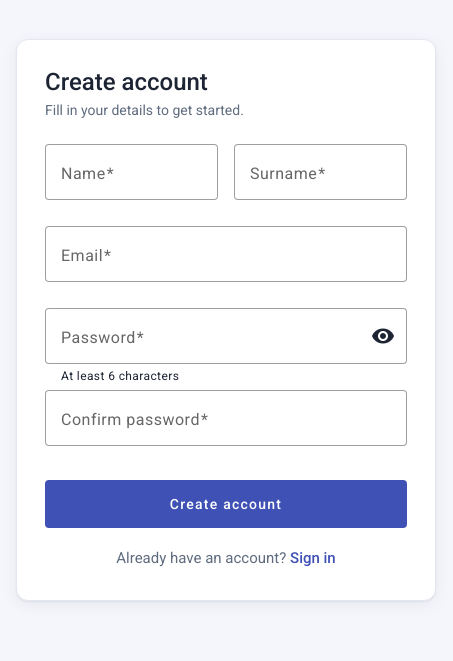
Test case: SignupComponent › failing to register › shows the server message and stays on the form
This screenshot has width=453, height=661.
Type "  Ada " into the field labelled "Name". click: point(132, 172)
box: left=61, top=160, right=202, bottom=184
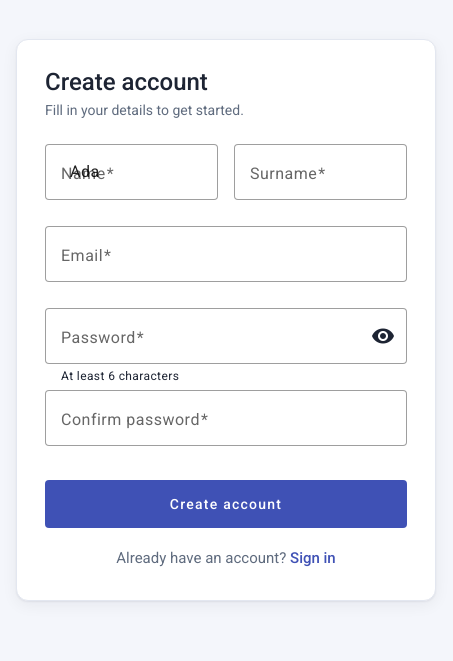
Type " Lovelace  " into the field labelled "Surname". click: point(320, 172)
box: left=250, top=160, right=391, bottom=184
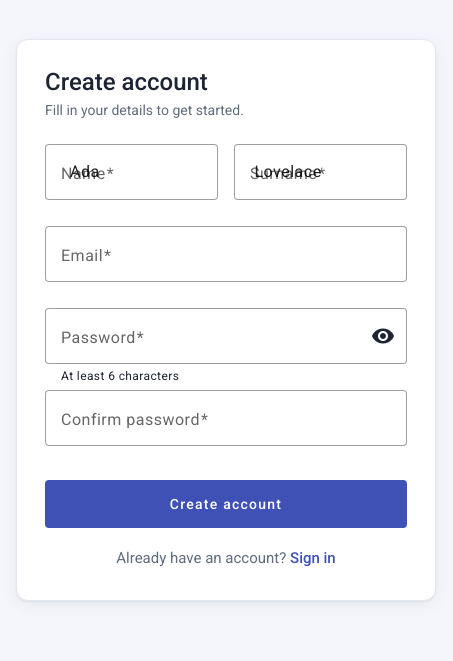
Type "ada@example.com" into the field labelled "Email". click: point(226, 254)
box: left=61, top=242, right=391, bottom=266
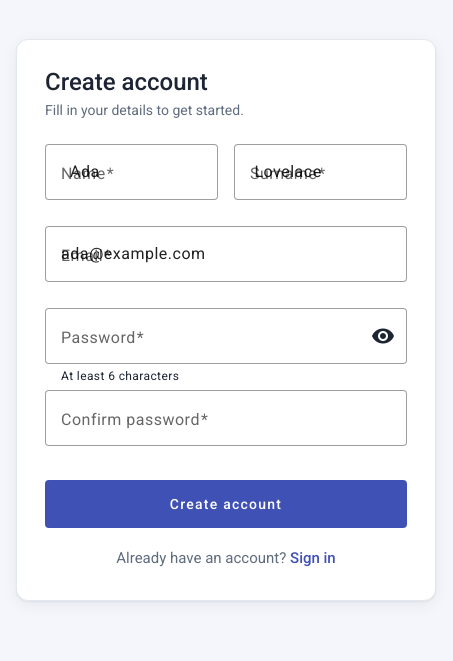
Type "secret1" into the password field labelled "Password". click: point(208, 336)
box: left=61, top=324, right=355, bottom=348
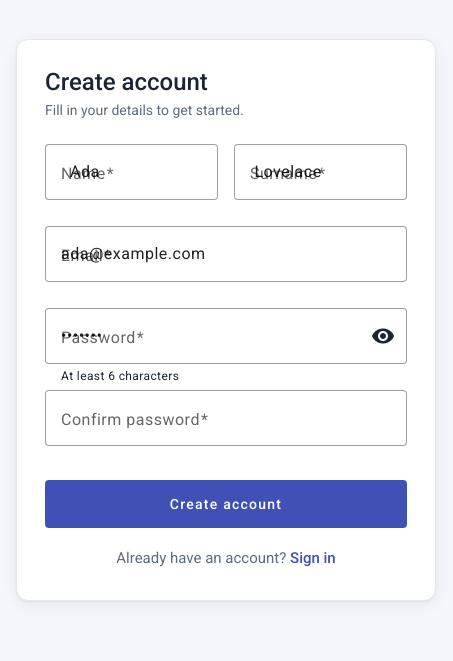
Type "secret1" into the password field labelled "Confirm password". click: point(226, 418)
box: left=61, top=406, right=391, bottom=430
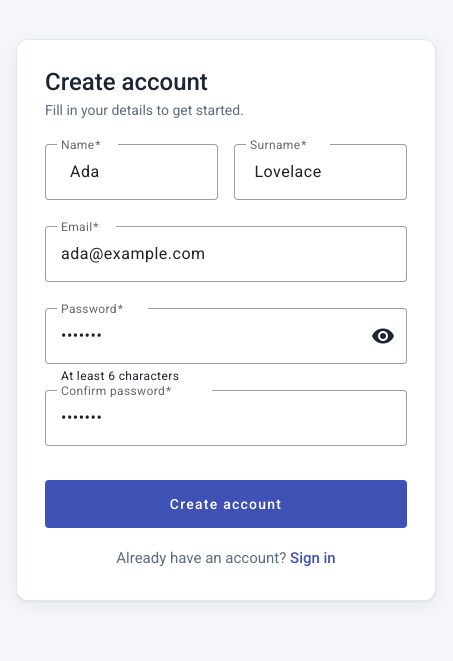
Click the submit button. click: point(226, 504)
box: left=45, top=480, right=407, bottom=528
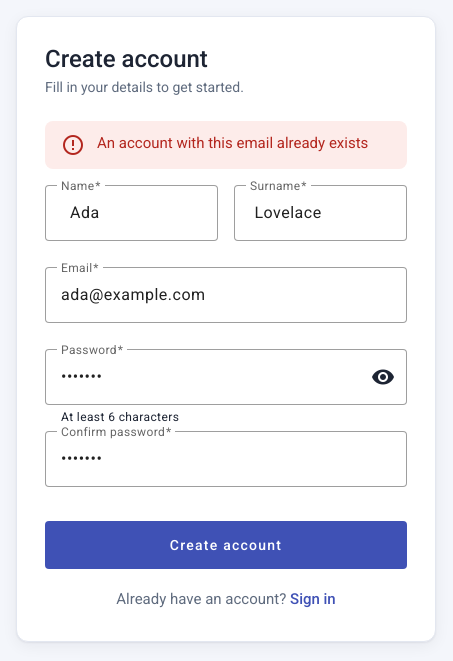
Now the text "An account with this email already exists" is shown, box left=97, top=133, right=368, bottom=154
